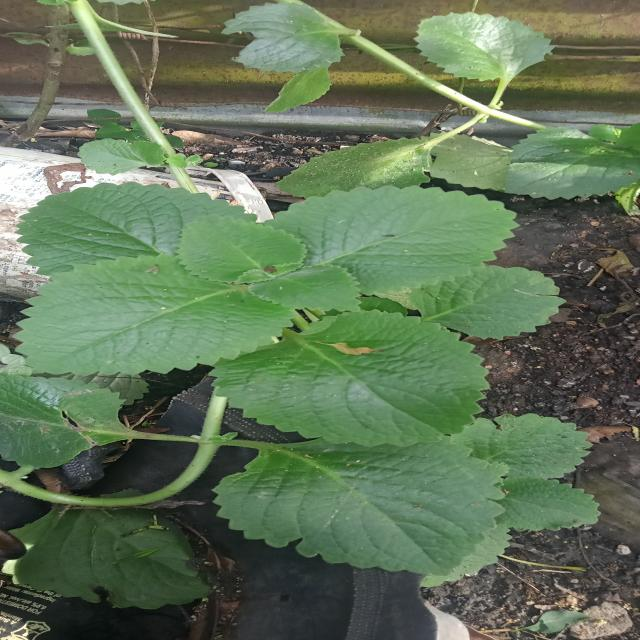Oregano: (11, 151, 630, 572)
